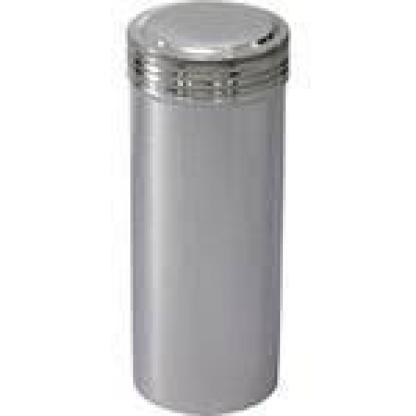METAL: (124, 0, 286, 413)
